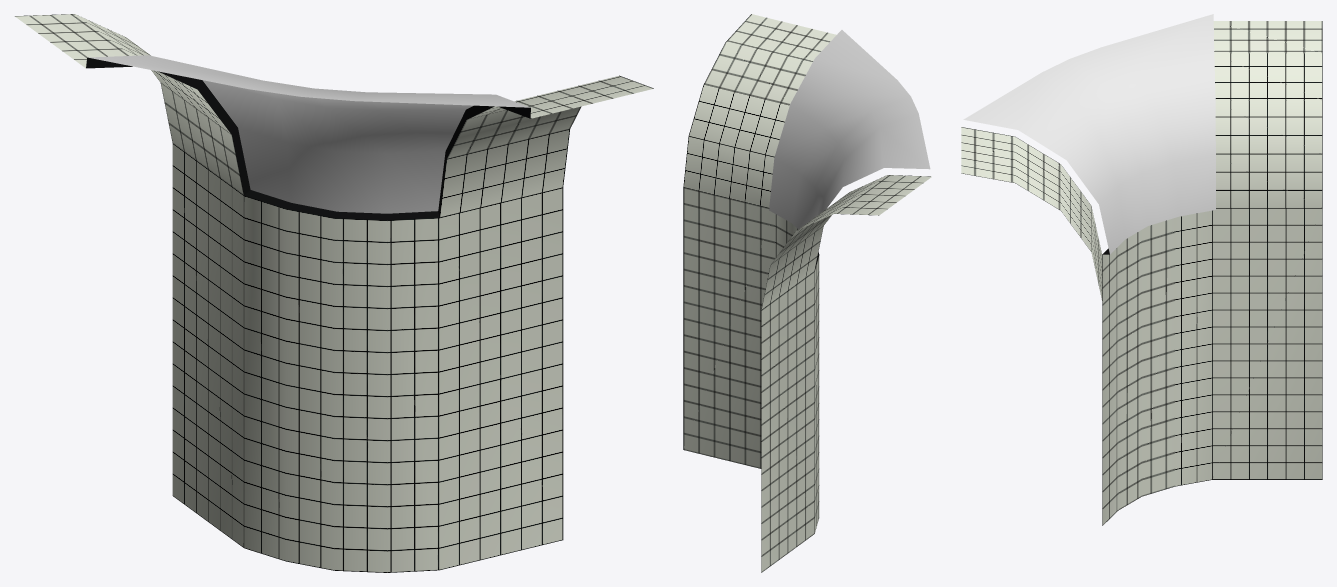
File: Archway_corner.fbx
The picture shows the model from 3 angles, left to right: view 1: azimuth 30°, elevation 25°; view 2: azimuth 150°, elevation 25°; view 3: azimuth 270°, elevation 25°; orthographic projection. The views are drawn at different scales.
Parts seen in each view (by area): view 1: Archway_corner; view 2: Archway_corner; view 3: Archway_corner.
Part boxes in pixels (x1,y1,x2,y2): Archway_corner: (15,14,653,572); Archway_corner: (683,14,931,572); Archway_corner: (961,14,1322,525).
Bounding box in the file's own units: 328 × 408 × 328.
